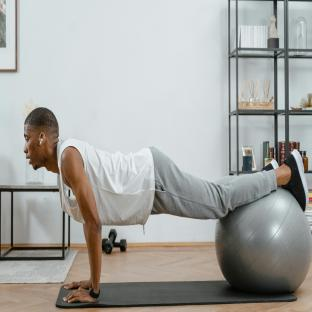Human: (24, 107, 309, 303)
